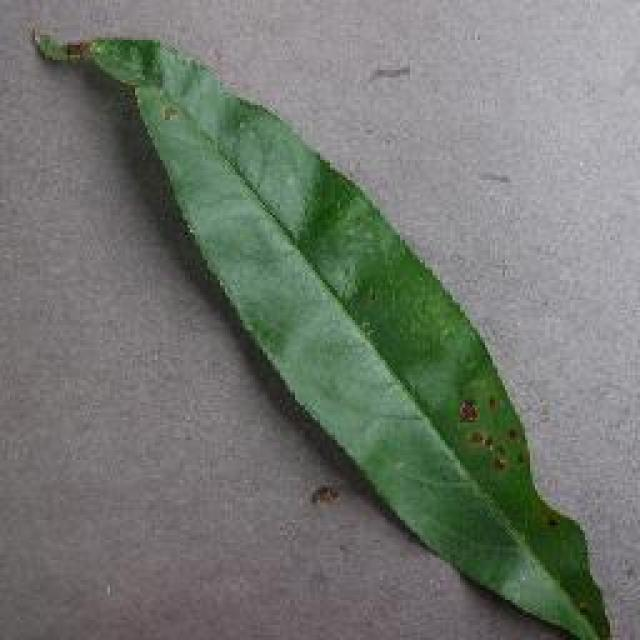Peach_Bacterial_Spot: (383, 323, 570, 517)
